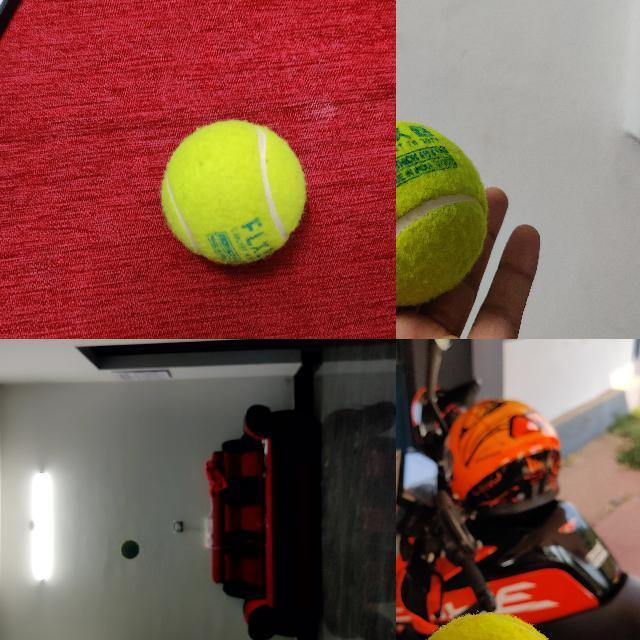tennis-ball: (159, 119, 307, 266), (396, 120, 489, 304), (120, 539, 139, 560)
